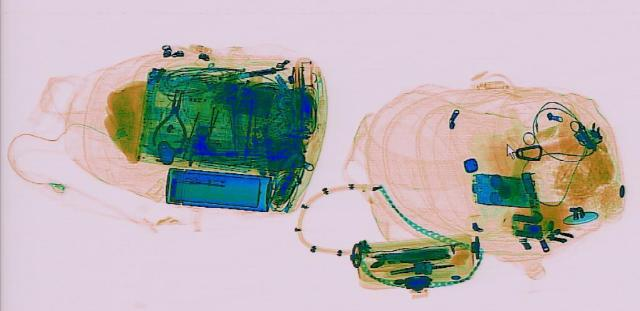Pliers: (149, 86, 195, 149)
